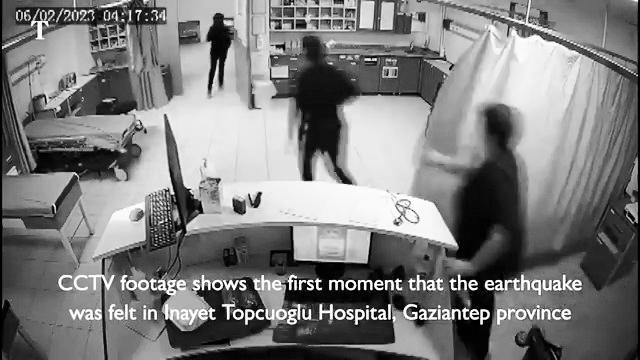berlari: (280, 28, 352, 184), (202, 14, 234, 99)
